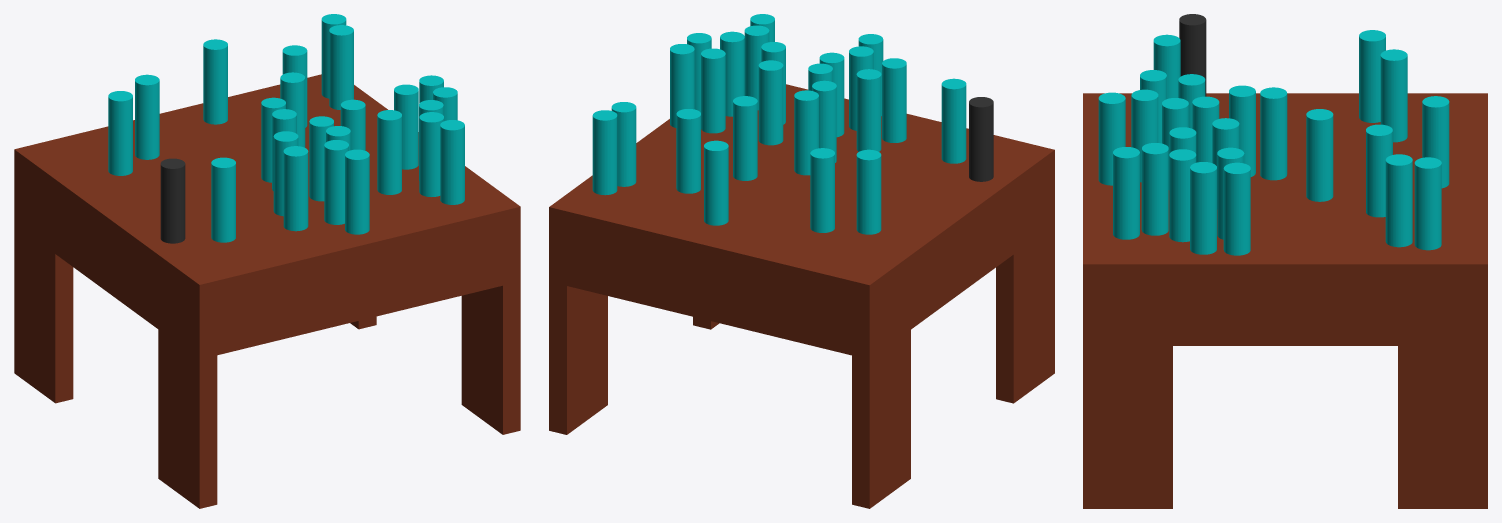
File: can_world_25_cans.dae
3 views of the same model, side by side, from view 1: azimuth 30°, elevation 25°; view 2: azimuth 150°, elevation 25°; view 3: azimuth 270°, elevation 25° (orthographic). The views are drawn at different scales.
Visible parts, largest first — view 1: base (×26); view 2: base (×27); view 3: base (×28).
Boxes of the visible parts, x1,y1,x2,y2 form: base (×26): (14,14,520,508); base (×27): (549,25,1054,508); base (×28): (1083,14,1487,508).
Bounding box in the file's own units: 0.9 × 0.9 × 0.811.
